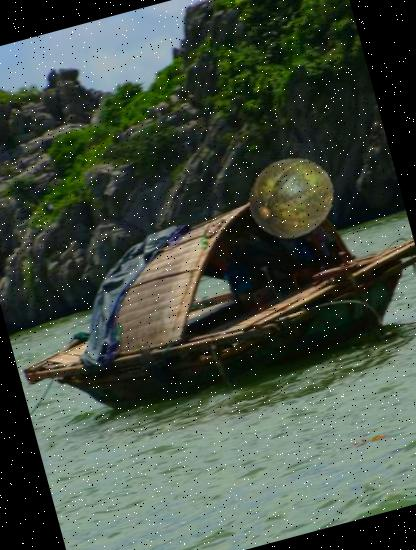Melon: (238, 144, 343, 250)
